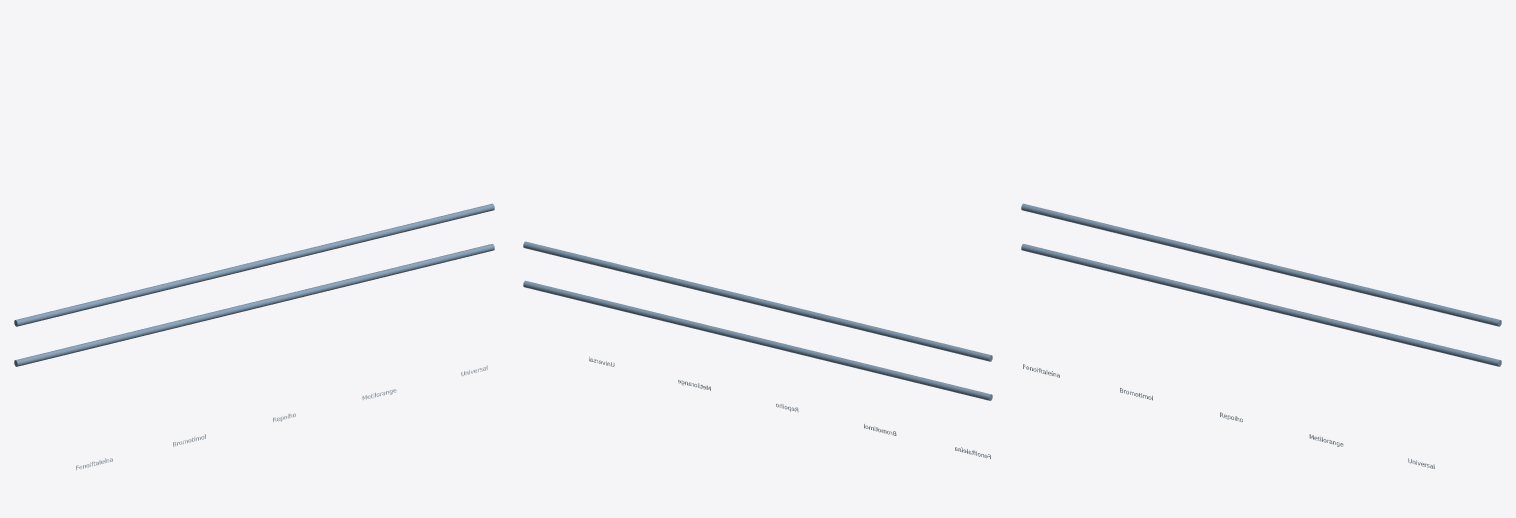
File: siab-abertura.glb
The picture shows the model from 3 angles, left to right: view 1: azimuth 30°, elevation 25°; view 2: azimuth 150°, elevation 25°; view 3: azimuth 330°, elevation 25°; orthographic projection. The views are drawn at different scales.
Visible parts, largest first — view 1: SUPORTE_TRIDIMENSIONAL_1, SUPORTE_TRIDIMENSIONAL_2; view 2: SUPORTE_TRIDIMENSIONAL_2, SUPORTE_TRIDIMENSIONAL_1; view 3: SUPORTE_TRIDIMENSIONAL_1, SUPORTE_TRIDIMENSIONAL_2.
Part boxes in pixels (box(x1,y1,x2,y2)): SUPORTE_TRIDIMENSIONAL_1: box(14, 244, 494, 366); SUPORTE_TRIDIMENSIONAL_2: box(14, 203, 494, 326); SUPORTE_TRIDIMENSIONAL_2: box(523, 241, 992, 361); SUPORTE_TRIDIMENSIONAL_1: box(523, 280, 992, 400); SUPORTE_TRIDIMENSIONAL_1: box(1021, 244, 1501, 366); SUPORTE_TRIDIMENSIONAL_2: box(1021, 203, 1501, 326).
Size of the model in its own units: 5.6 by 5.04 by 0.6479.
